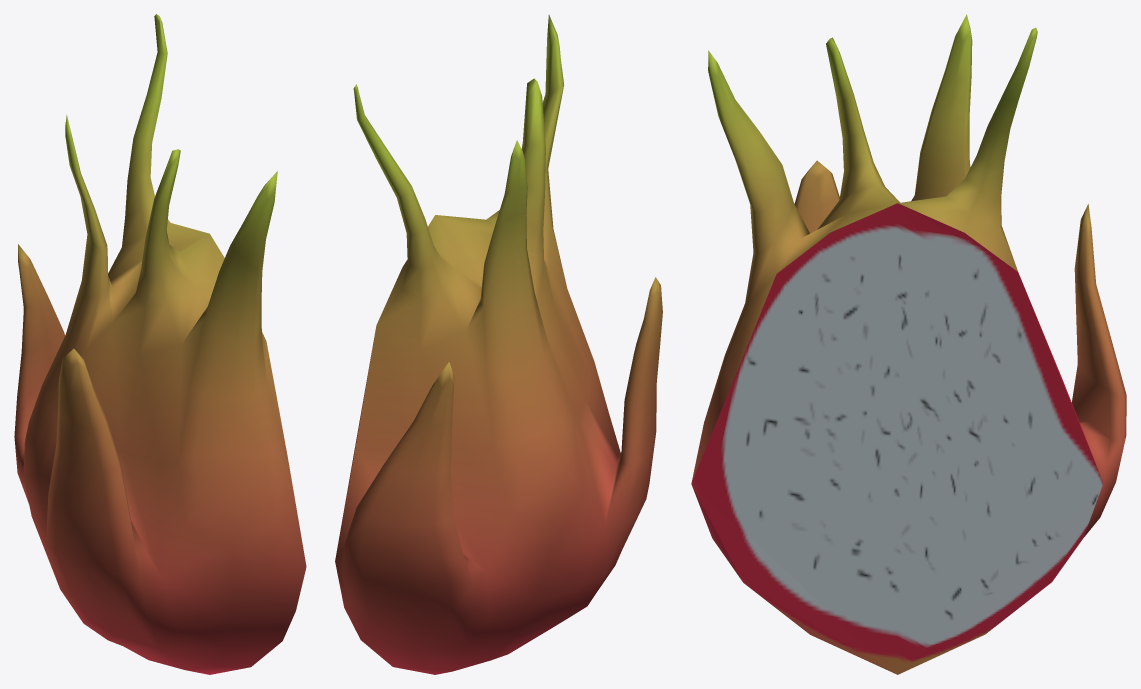
The model's file is dragonS.FBX.
3 renders of one model, left to right at view 1: azimuth 30°, elevation 25°; view 2: azimuth 150°, elevation 25°; view 3: azimuth 270°, elevation 25°, orthographic. The views are drawn at different scales.
Visible parts, largest first — view 1: Dragon001; view 2: Dragon001; view 3: Dragon001.
Boxes of the visible parts, x1,y1,x2,y2 form: Dragon001: (14, 14, 306, 674); Dragon001: (335, 15, 662, 674); Dragon001: (691, 14, 1126, 674).
Size of the model in its own units: 4.68 by 13.92 by 8.41.
